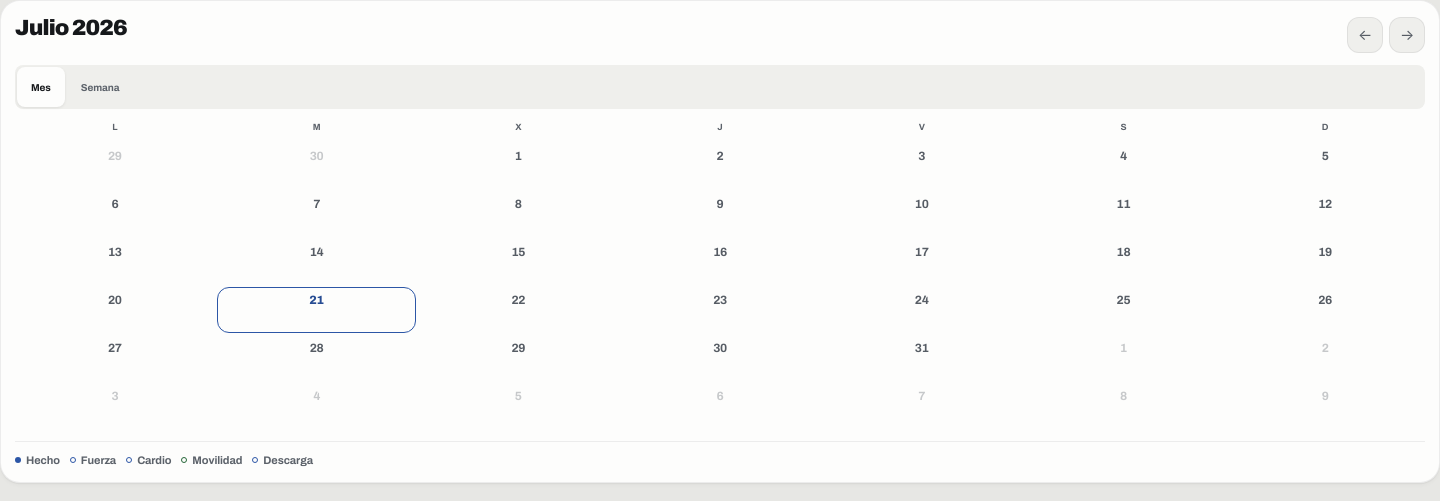
Test: Calendar — vista semana › navega de semana en semana
Click the tab "Semana" at [100, 87], box top-left (67, 67), bottom-right (133, 107)
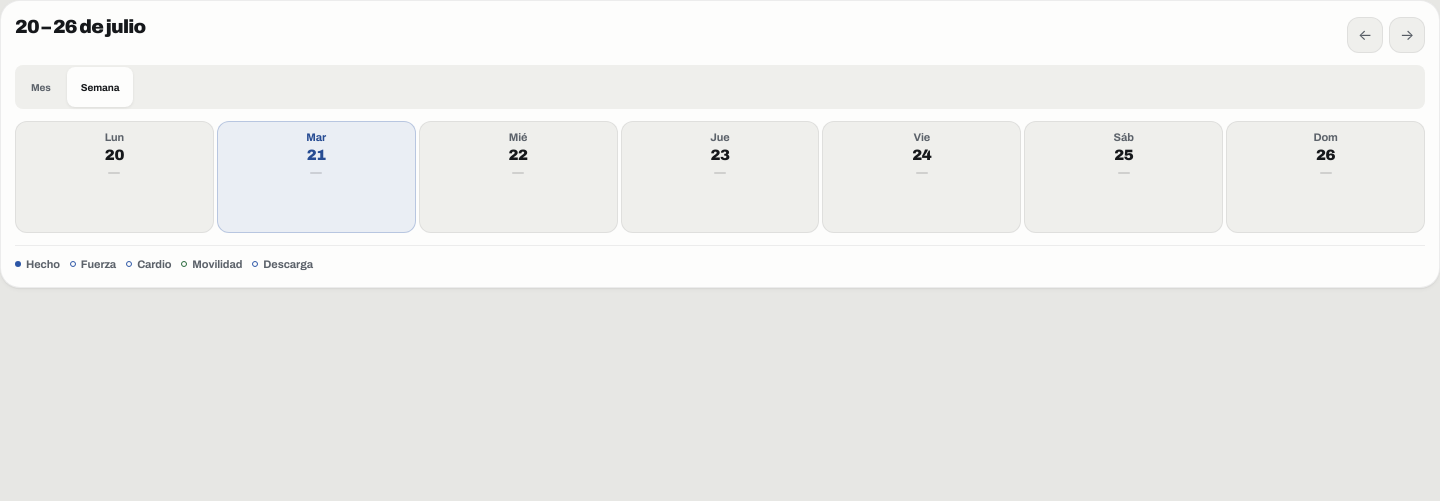
Click the button named "Semana siguiente" at [1407, 35], box top-left (1389, 17), bottom-right (1425, 53)
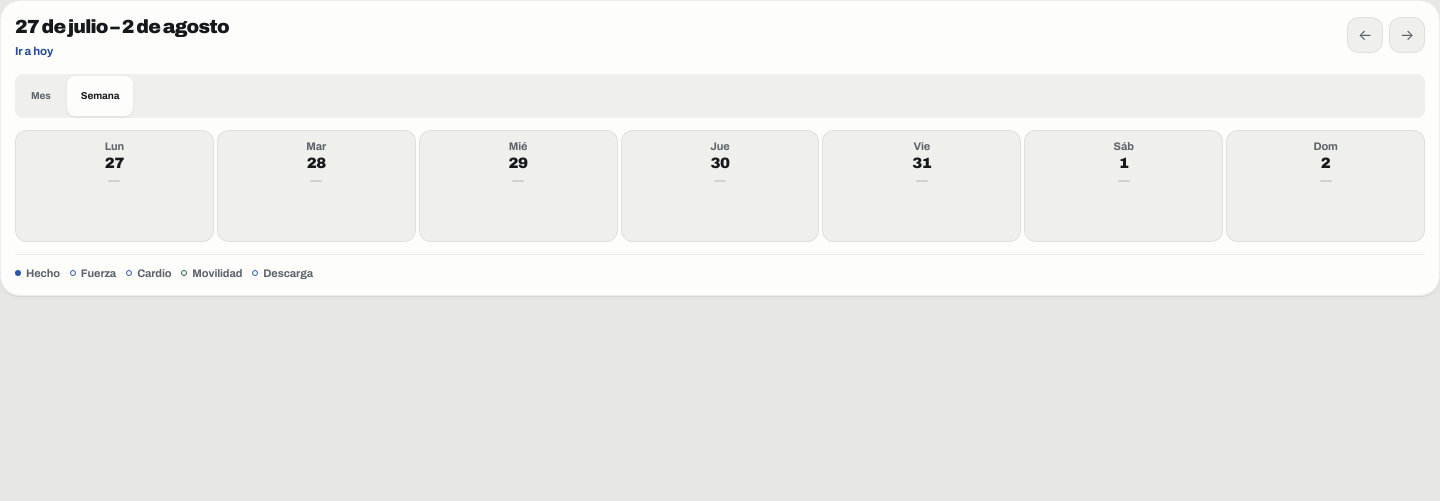
Now the text "27 de julio – 2 de agosto" is shown, box top-left (15, 17), bottom-right (229, 37)
Click the button named "Semana anterior" at [1365, 35], box top-left (1347, 17), bottom-right (1383, 53)
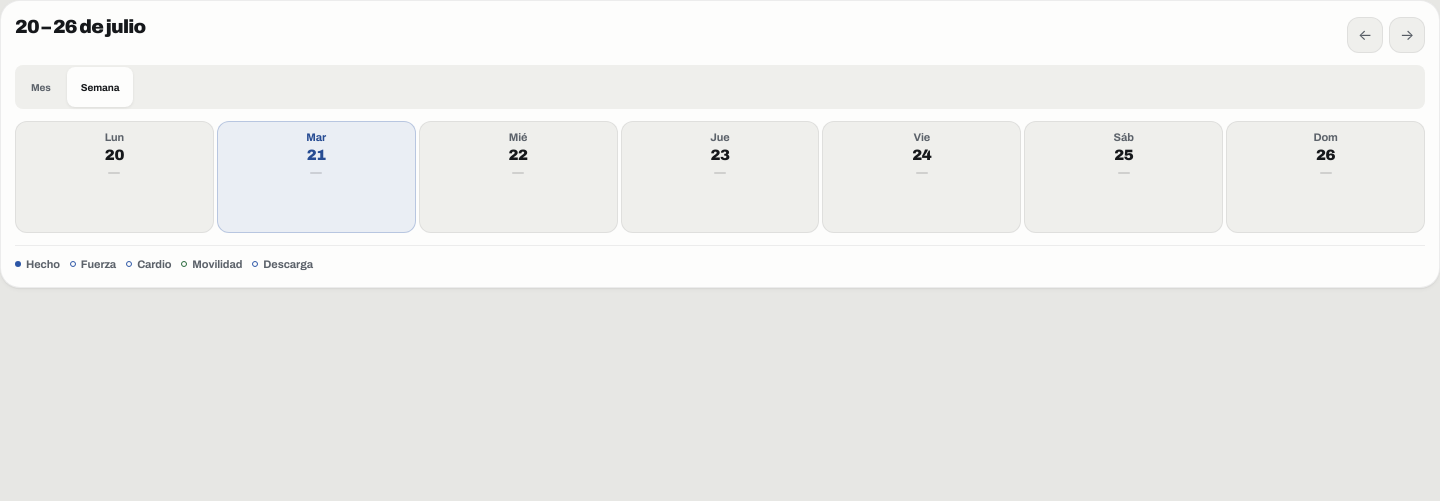
Now the text "20 – 26 de julio" is shown, box top-left (15, 17), bottom-right (146, 37)
